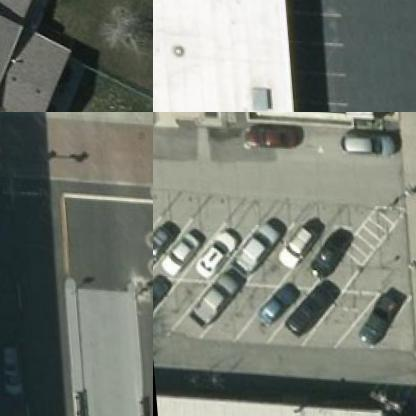car: (282, 274, 342, 335), (183, 267, 243, 324), (232, 215, 286, 272), (354, 286, 405, 342), (310, 218, 356, 276), (160, 223, 208, 275), (253, 277, 303, 325), (192, 228, 240, 274), (275, 217, 317, 266), (0, 336, 31, 393), (241, 118, 295, 146), (342, 126, 396, 152), (153, 220, 175, 273)
